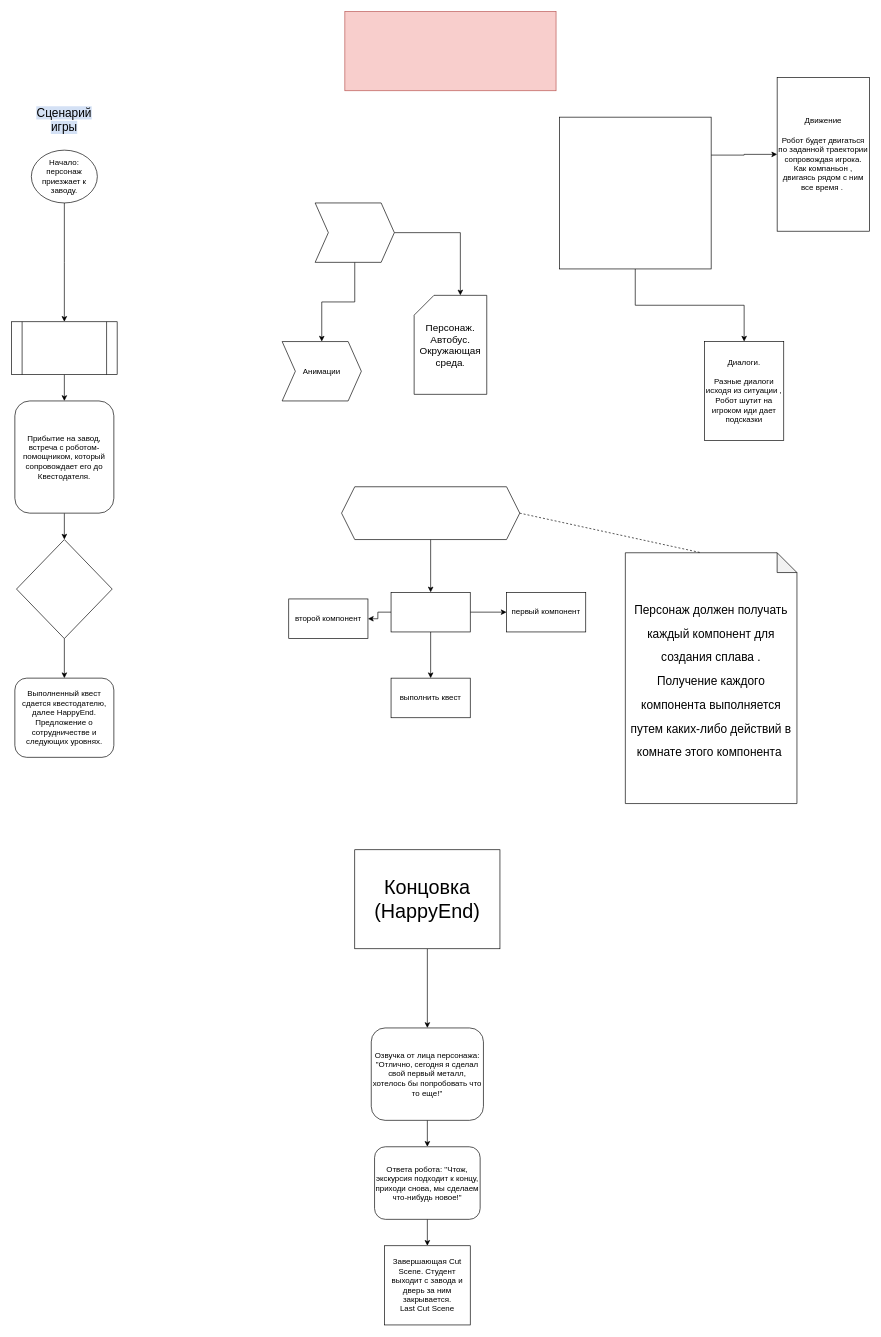
Image size: 881x1337. Some labels were removed from this diagram. The shapes that lost their labels are listed below. From the top down, each one's centre as x and y in pixels, then its label:
At point 450,51: "План действий!".
At point 635,192: "План действий РОБОТА, который встречает персонажа (ИИ)".
At point 354,232: "Модели".
At point 64,348: "Превью(movie): Первая катсцена встречающая игрока (Cut Scene 1)".
At point 430,513: "Основной квест".
At point 64,589: "Выполнение квеста (сюжет)".
At point 430,612: "сделать сплав металла".
